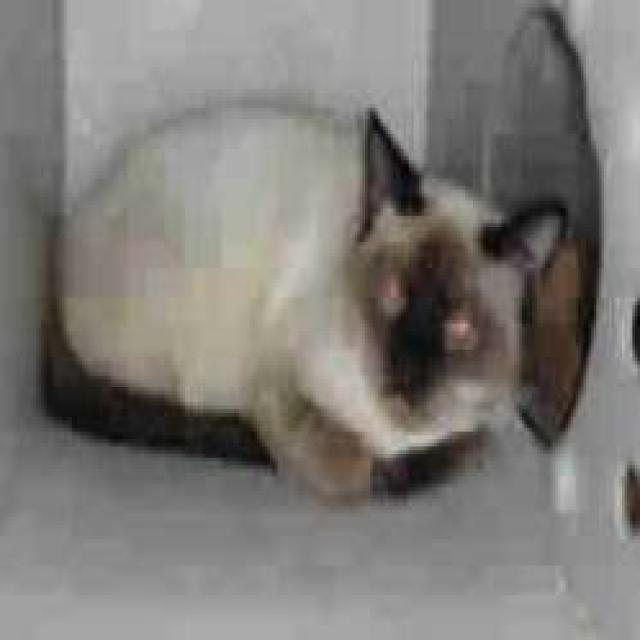cat: (39, 100, 568, 502)
